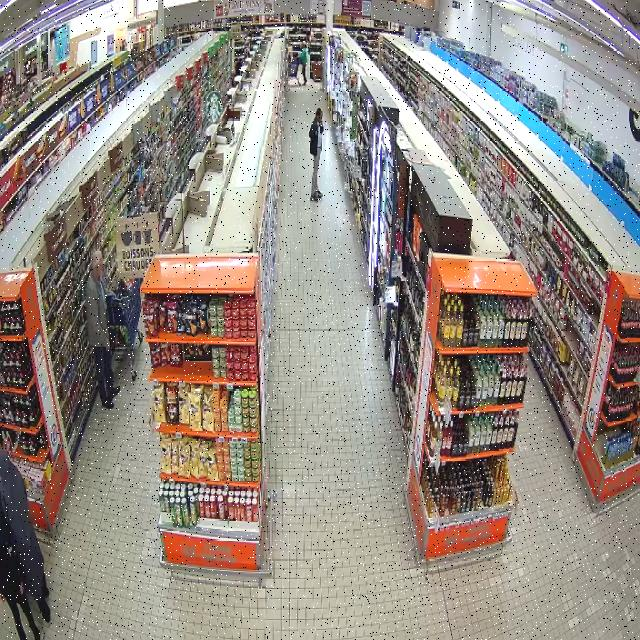hands: (105, 339, 110, 350), (20, 583, 24, 595), (0, 594, 5, 602)
person: (85, 249, 119, 408), (0, 511, 39, 639), (308, 108, 323, 201)
